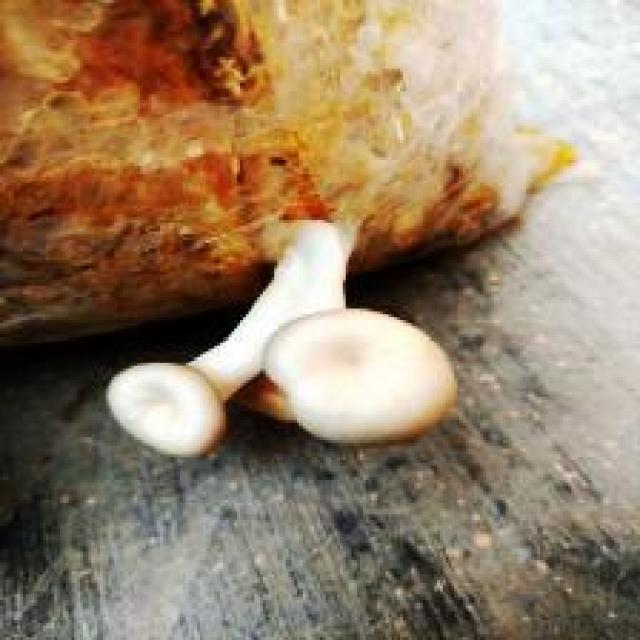death-cap: (3, 0, 578, 351)
